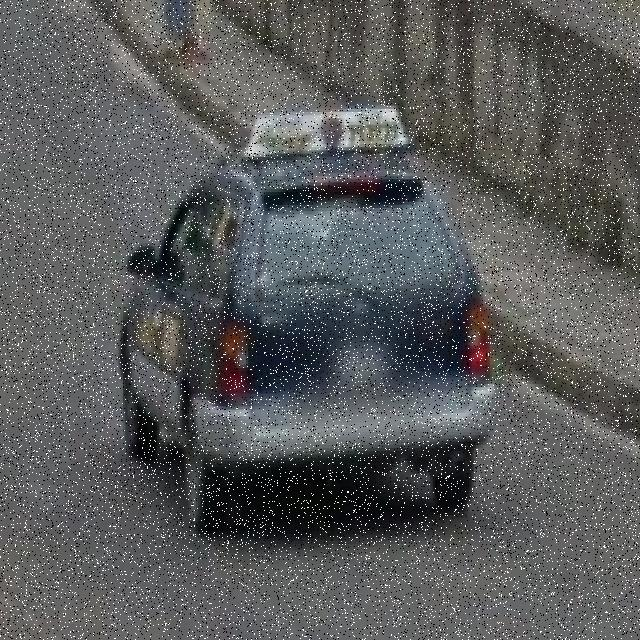cars: (104, 83, 507, 562)
